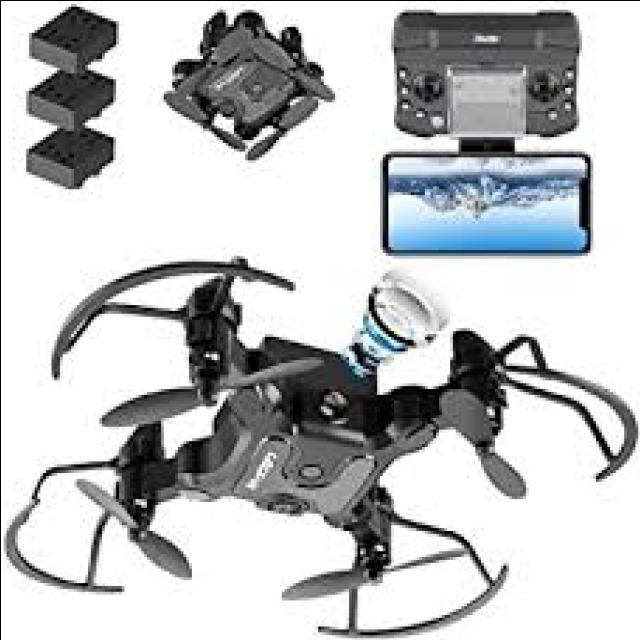drone: (0, 243, 640, 639)
